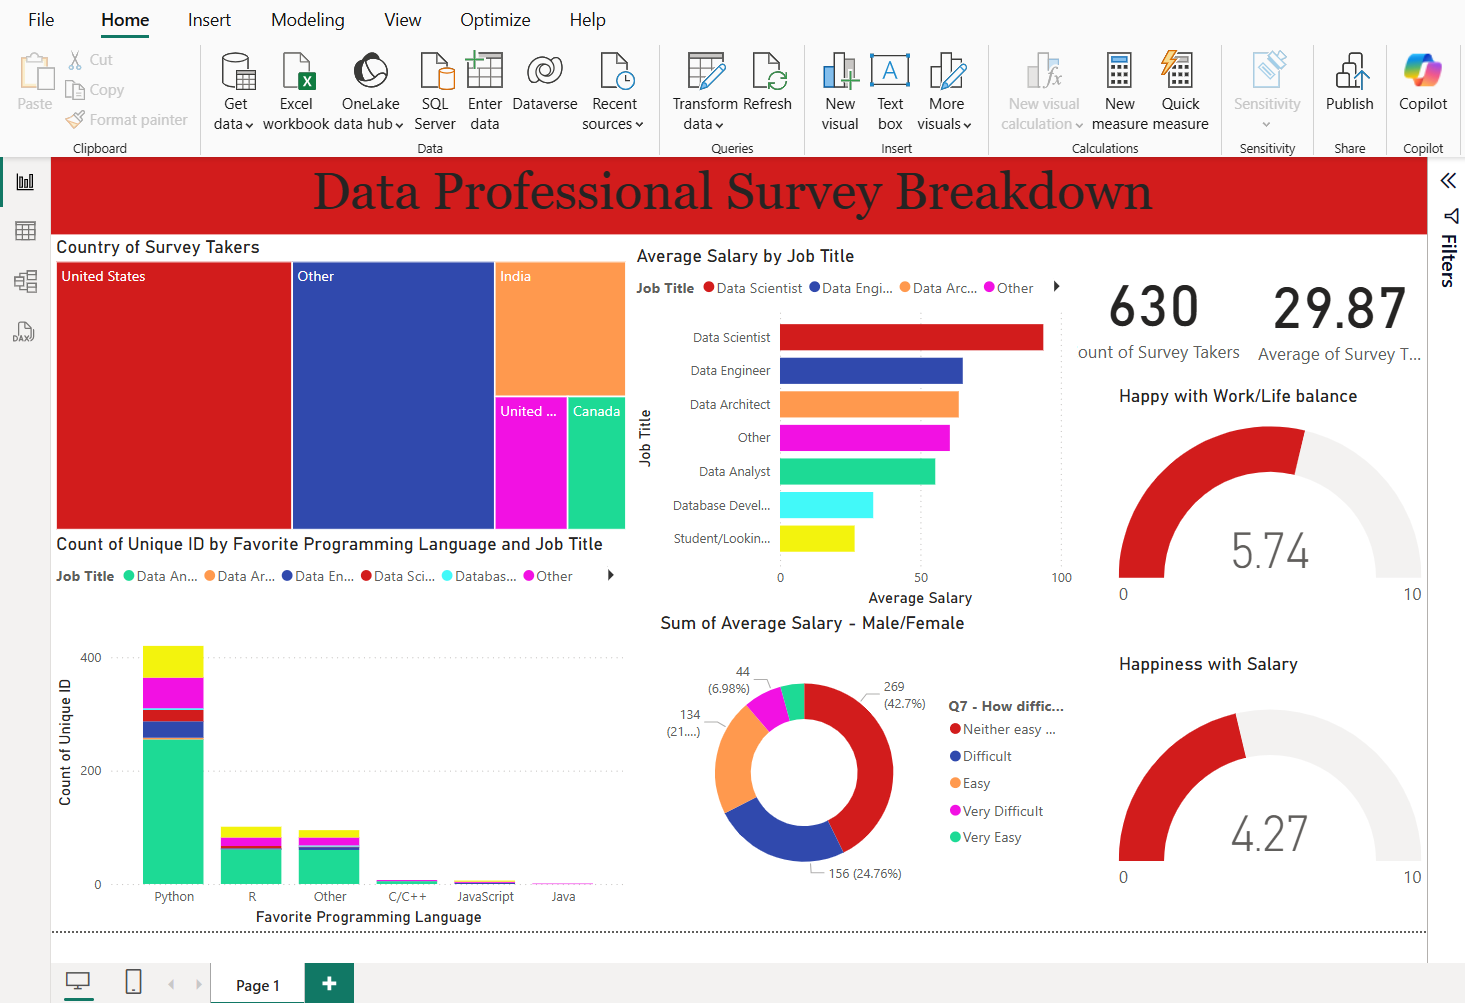

The dashboard page shown, as its layout file describes it:
{"tool":"powerbi","page":{"name":"Page 1","canvas":[1280,720],"ordinal":0},"visuals":[{"type":"textbox","box":[0,0,1279.7,71.8],"z":0},{"type":"textbox","box":[10,290,280,280],"z":1000},{"type":"card","fields":{"Values":["CountNonNull(Data Professional Survey.Unique ID)"]},"box":[935,73.3,181.7,138.3],"z":2000},{"type":"card","fields":{"Values":["Avg(Data Professional Survey.Q10 - Current Age)"]},"box":[1117.3,82.1,163,123.9],"z":3000},{"type":"barChart","title":" Average Salary by Job Title","fields":{"Category":["Data Professional Survey.Q1 - Which Title Best Fits your Current Role?.1"],"Y":["Avg(Data Professional Survey.Average Salary)"],"Series":["Data Professional Survey.Q1 - Which Title Best Fits your Current Role?.1"]},"box":[540,81.7,415,341.7],"z":4000},{"type":"columnChart","fields":{"Category":["Data Professional Survey.Q5 - Favorite Programming Language.1"],"Y":["CountNonNull(Data Professional Survey.Unique ID)"],"Series":["Data Professional Survey.Q1 - Which Title Best Fits your Current Role?.1"]},"box":[0,350,540,370],"z":5000},{"type":"treemap","title":"Country of Survey Takers","fields":{"Group":["Data Professional Survey.Q11 - Which Country do you live in?.1"],"Values":["CountNonNull(Data Professional Survey.Q11 - Which Country do you live in?.1)"]},"box":[0,72.9,540,278.6],"z":6000},{"type":"gauge","title":"Happy with Work/Life balance","fields":{"Y":["Avg(Data Professional Survey.Q6 - How Happy are you in your Current Position with the following? (Work/Life Balance))"],"MinValue":["Min(Data Professional Survey.Q6 - How Happy are you in your Current Position with the following? (Work/Life Balance))"],"MaxValue":["Max(Data Professional Survey.Q6 - How Happy are you in your Current Position with the following? (Work/Life Balance))"]},"box":[988.3,211.7,291.7,231.7],"z":7000},{"type":"gauge","title":"Happiness with Salary","fields":{"Y":["Avg(Data Professional Survey.Q6 - How Happy are you in your Current Position with the following? (Salary))"],"MinValue":["Min(Data Professional Survey.Q6 - How Happy are you in your Current Position with the following? (Salary))"],"MaxValue":["Max(Data Professional Survey.Q6 - How Happy are you in your Current Position with the following? (Salary))"]},"box":[988.3,461.7,291.7,258.3],"z":8000},{"type":"donutChart","title":"Sum of Average Salary - Male/Female","fields":{"Category":["Data Professional Survey.Q7 - How difficult was it for you to break into Data?"],"Y":["CountNonNull(Data Professional Survey.Q7 - How difficult was it for you to break into Data?)"]},"box":[561.7,423.3,393.3,280],"z":9000}]}

Visuals, with their boxes on the page's 1280x720 design canvas (x1, y1, x2, y2). These are canvas units, not pixel positions in the 1465x1003 screenshot, which may show the page scaled, cropped or inside an application window:
textbox: (left=0, top=0, right=1280, bottom=72)
textbox: (left=10, top=290, right=290, bottom=570)
card - CountNonNull(Data Professional Survey.Unique ID): (left=935, top=73, right=1117, bottom=212)
card - Avg(Data Professional Survey.Q10 - Current Age): (left=1117, top=82, right=1280, bottom=206)
" Average Salary by Job Title" barChart: (left=540, top=82, right=955, bottom=423)
columnChart - Data Professional Survey.Q5 - Favorite Programming Language.1 x CountNonNull(Data Professional Survey.Unique ID): (left=0, top=350, right=540, bottom=720)
"Country of Survey Takers" treemap: (left=0, top=73, right=540, bottom=352)
"Happy with Work/Life balance" gauge: (left=988, top=212, right=1280, bottom=443)
"Happiness with Salary" gauge: (left=988, top=462, right=1280, bottom=720)
"Sum of Average Salary - Male/Female" donutChart: (left=562, top=423, right=955, bottom=703)
